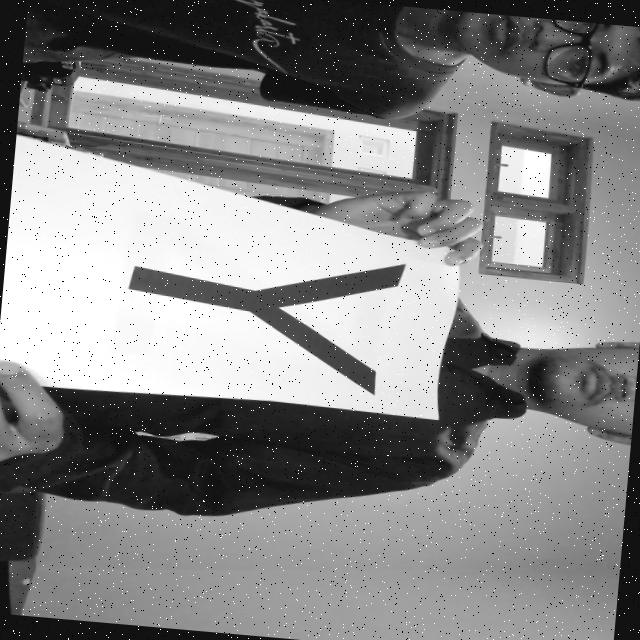y: (116, 220, 412, 404)
